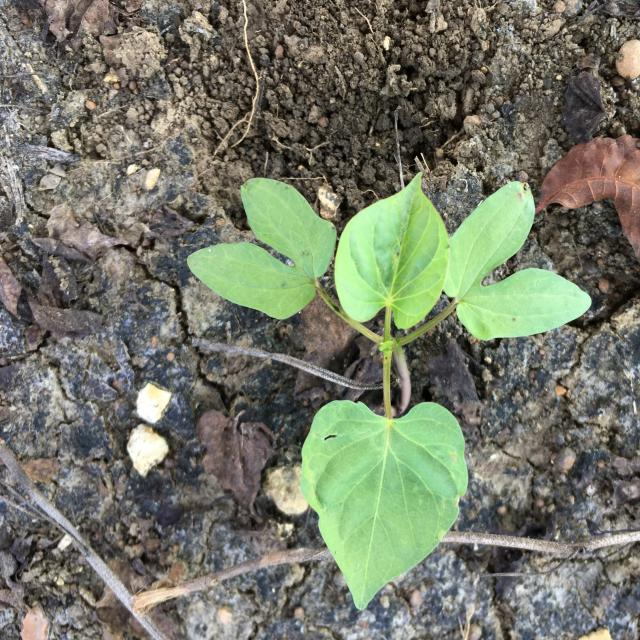MorningGlory: (187, 170, 592, 609)
